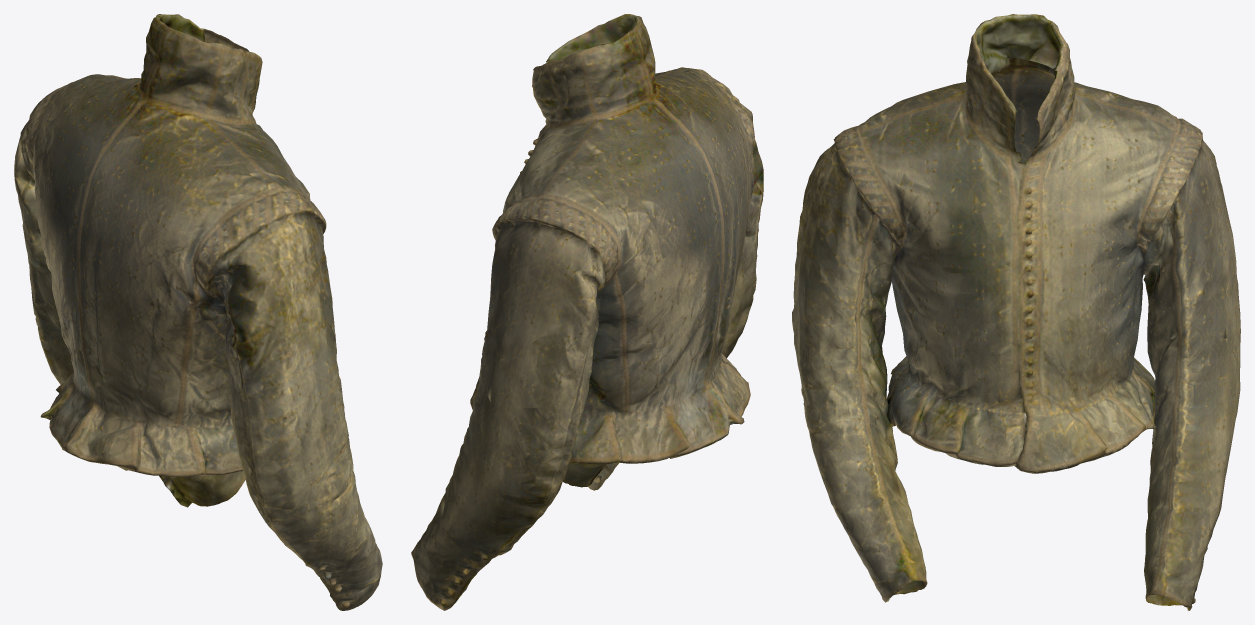
File: gruener_wams.glb
The picture shows the model from 3 angles, left to right: view 1: azimuth 30°, elevation 25°; view 2: azimuth 150°, elevation 25°; view 3: azimuth 270°, elevation 25°; orthographic projection. The views are drawn at different scales.
Parts seen in each view (by area): view 1: T1635_red_holesfilled; view 2: T1635_red_holesfilled; view 3: T1635_red_holesfilled.
Boxes of the visible parts, x1,y1,x2,y2 form: T1635_red_holesfilled: [14, 14, 382, 610]; T1635_red_holesfilled: [411, 14, 763, 610]; T1635_red_holesfilled: [792, 14, 1240, 610].
Bounding box in the file's own units: 33.18 × 68.34 × 50.95.
Materials: 1 (1 with a texture image).
